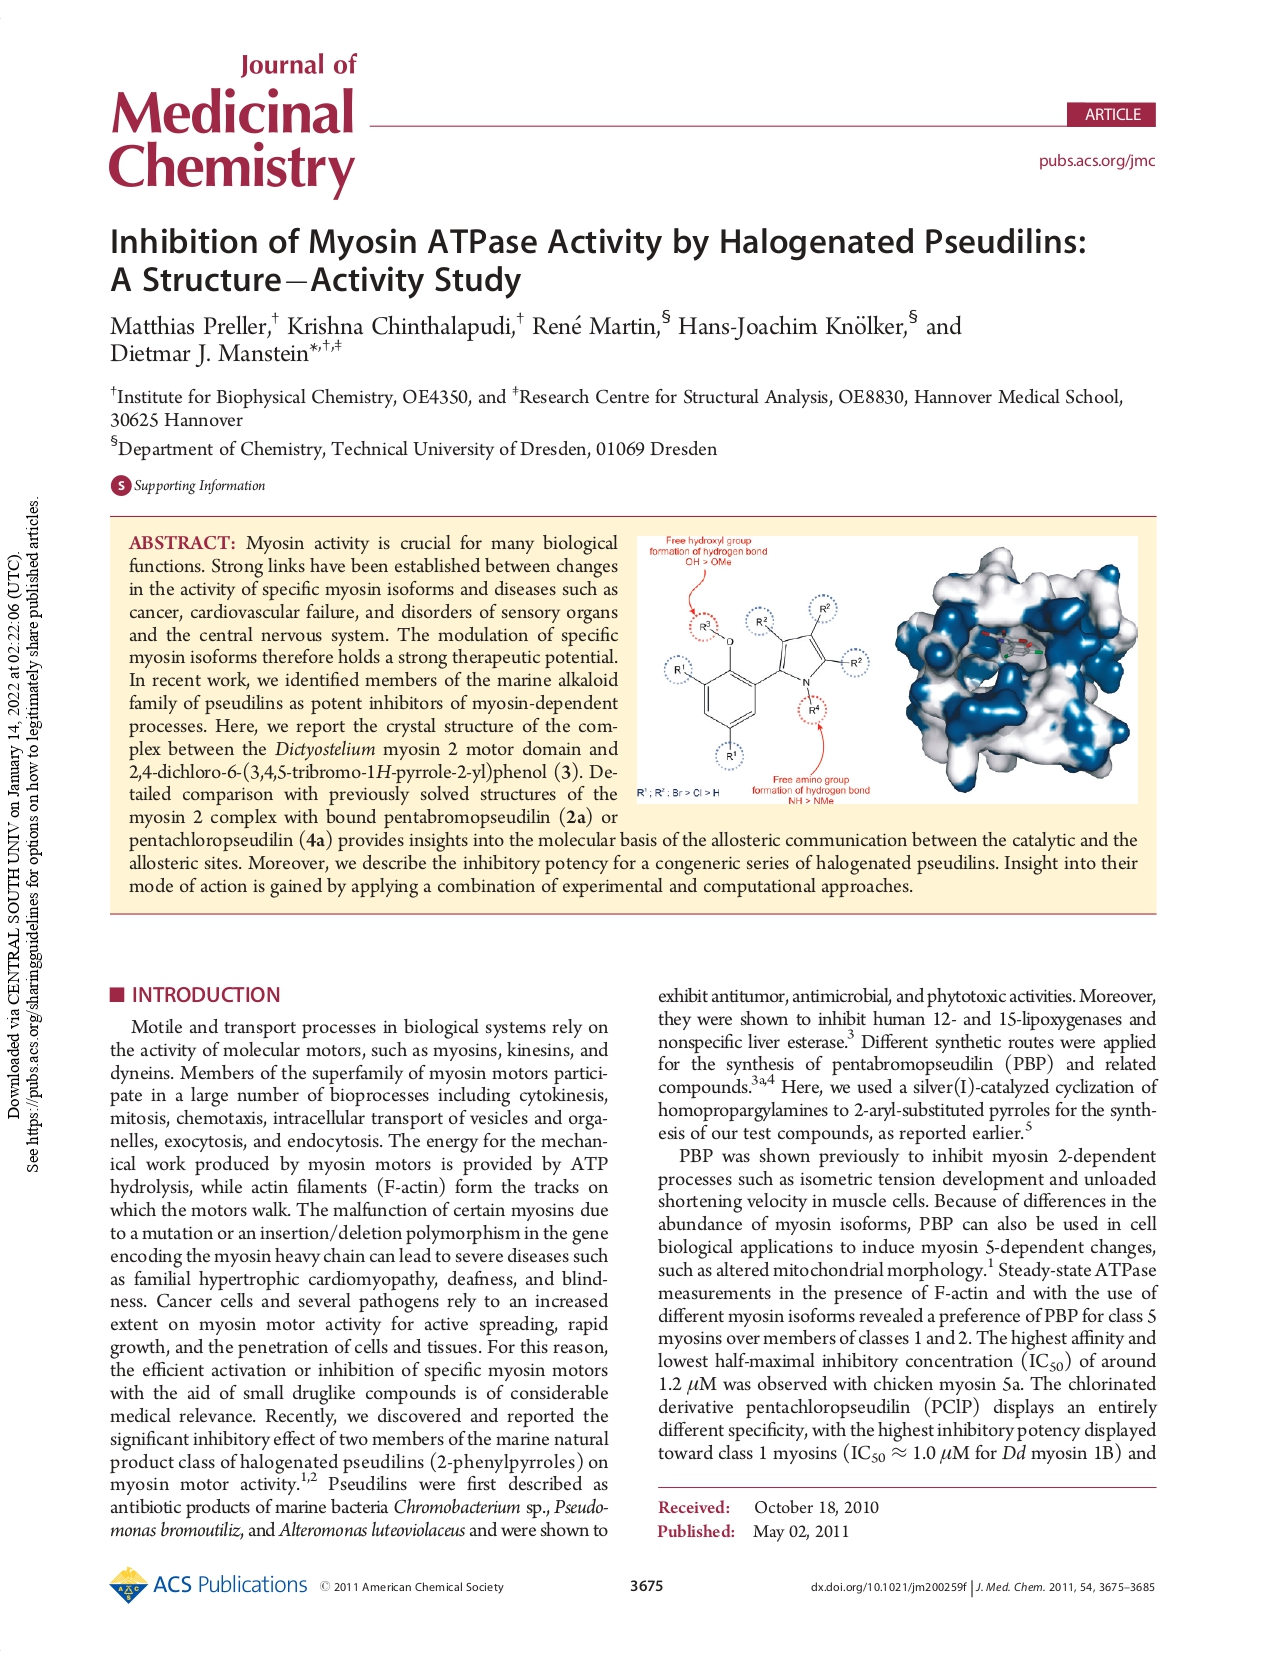exist_molecular: (670, 601, 863, 763)
